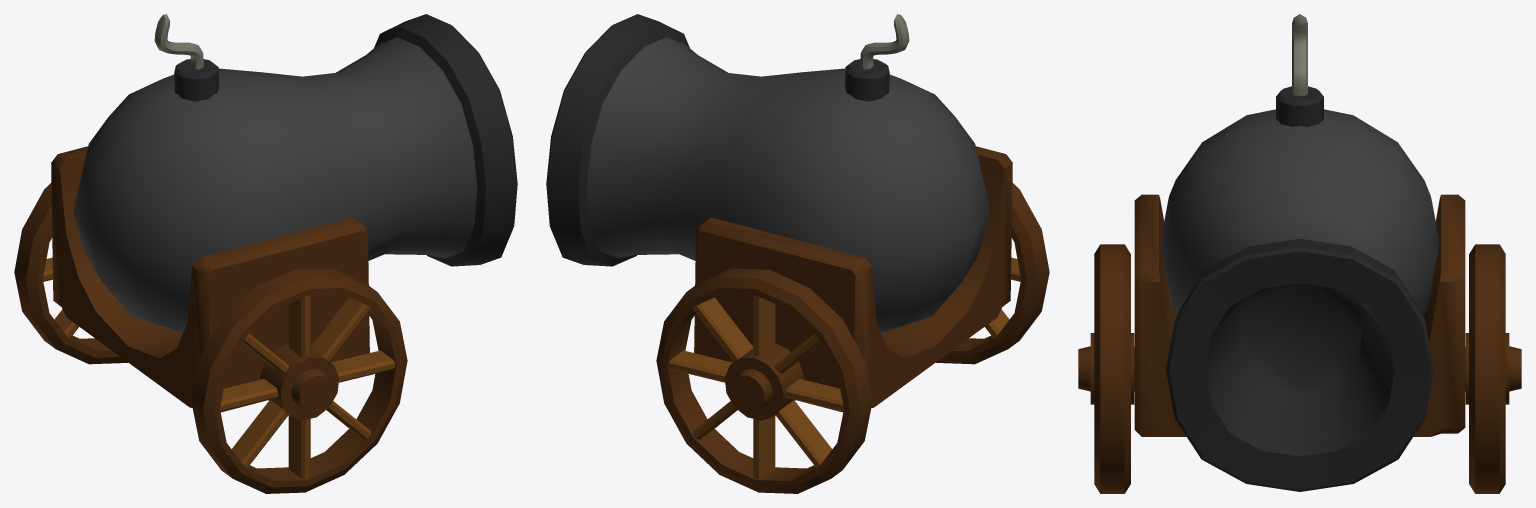
File: Cannon.obj
3 renders of one model, left to right at view 1: azimuth 30°, elevation 25°; view 2: azimuth 150°, elevation 25°; view 3: azimuth 270°, elevation 25°, orthographic. The views are drawn at different scales.
Visible parts, largest first — view 1: Cannon_Cube.048, Cannon_Wheels_Cylinder.004; view 2: Cannon_Cube.048, Cannon_Wheels_Cylinder.004; view 3: Cannon_Cube.048, Cannon_Wheels_Cylinder.004.
Boxes of the visible parts, x1,y1,x2,y2 form: Cannon_Cube.048: (51,14,517,412); Cannon_Wheels_Cylinder.004: (14,183,407,493); Cannon_Cube.048: (546,14,1012,412); Cannon_Wheels_Cylinder.004: (656,183,1049,493); Cannon_Cube.048: (1134,14,1465,491); Cannon_Wheels_Cylinder.004: (1078,244,1521,493).
Bounding box in the file's own units: 3.37 × 3.67 × 3.32.
